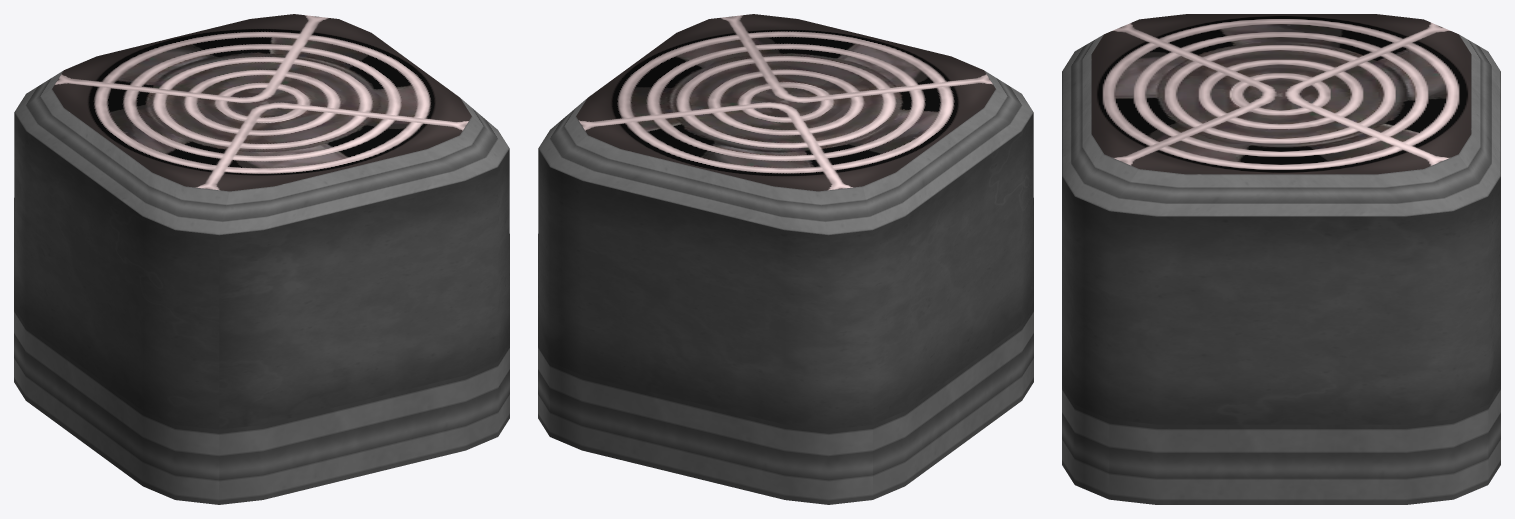
The model's file is AcUnit0.fbx.
The picture shows the model from 3 angles, left to right: view 1: azimuth 30°, elevation 25°; view 2: azimuth 150°, elevation 25°; view 3: azimuth 270°, elevation 25°; orthographic projection. The views are drawn at different scales.
Visible parts, largest first — view 1: Cube; view 2: Cube; view 3: Cube.
Part boxes in pixels (x1,y1,x2,y2): Cube: (14,14,509,504); Cube: (538,14,1033,504); Cube: (1062,14,1500,504).
Size of the model in its own units: 2 by 1.6 by 2.
